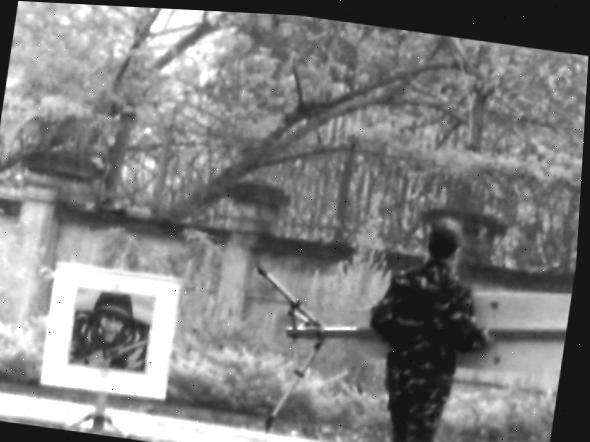bia: (66, 283, 156, 373)
chan: (258, 259, 384, 428), (53, 392, 138, 442)
